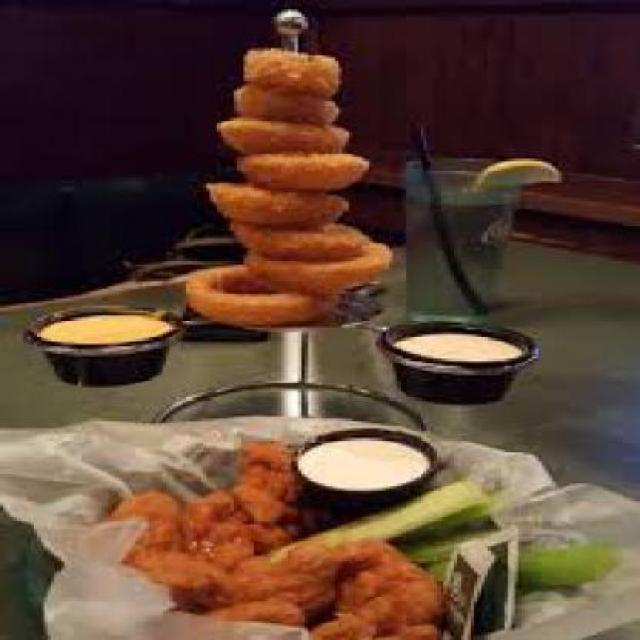chicken wings: (94, 428, 463, 638)
onion rings: (162, 34, 413, 337)
